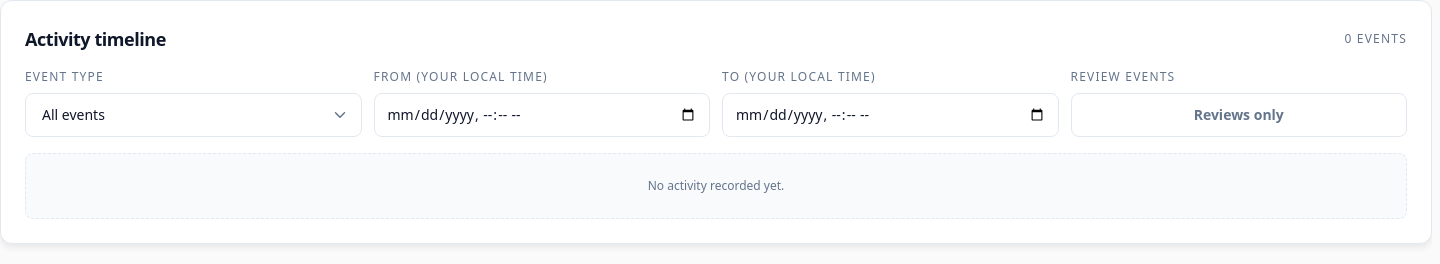
Test: AttemptTimeline reviews-only toggle (P4-E) › toggles reviewsOnly into the filters and disables the type-group select
What coordinates should you click on to do the following:
click the button "Reviews only"
I would click on:
 (1239, 115)
Its box is x1=1070 y1=93 x2=1407 y2=137.
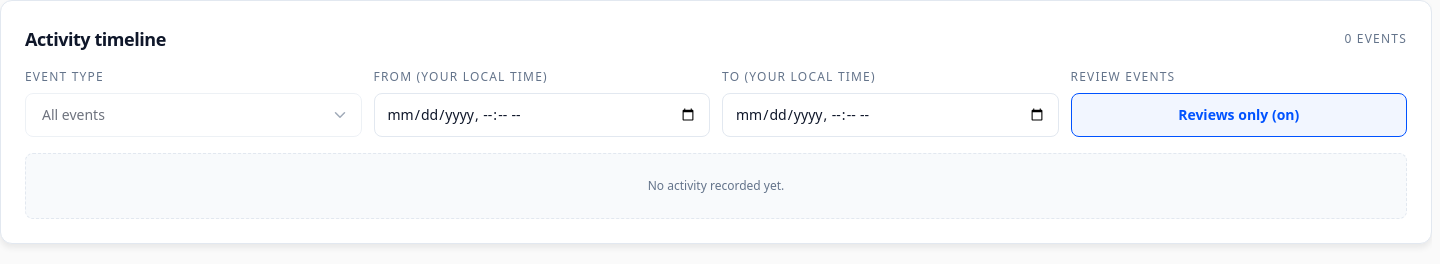
Check: the dropdown labelled "Event type" is disabled, box x1=25 y1=93 x2=362 y2=137
